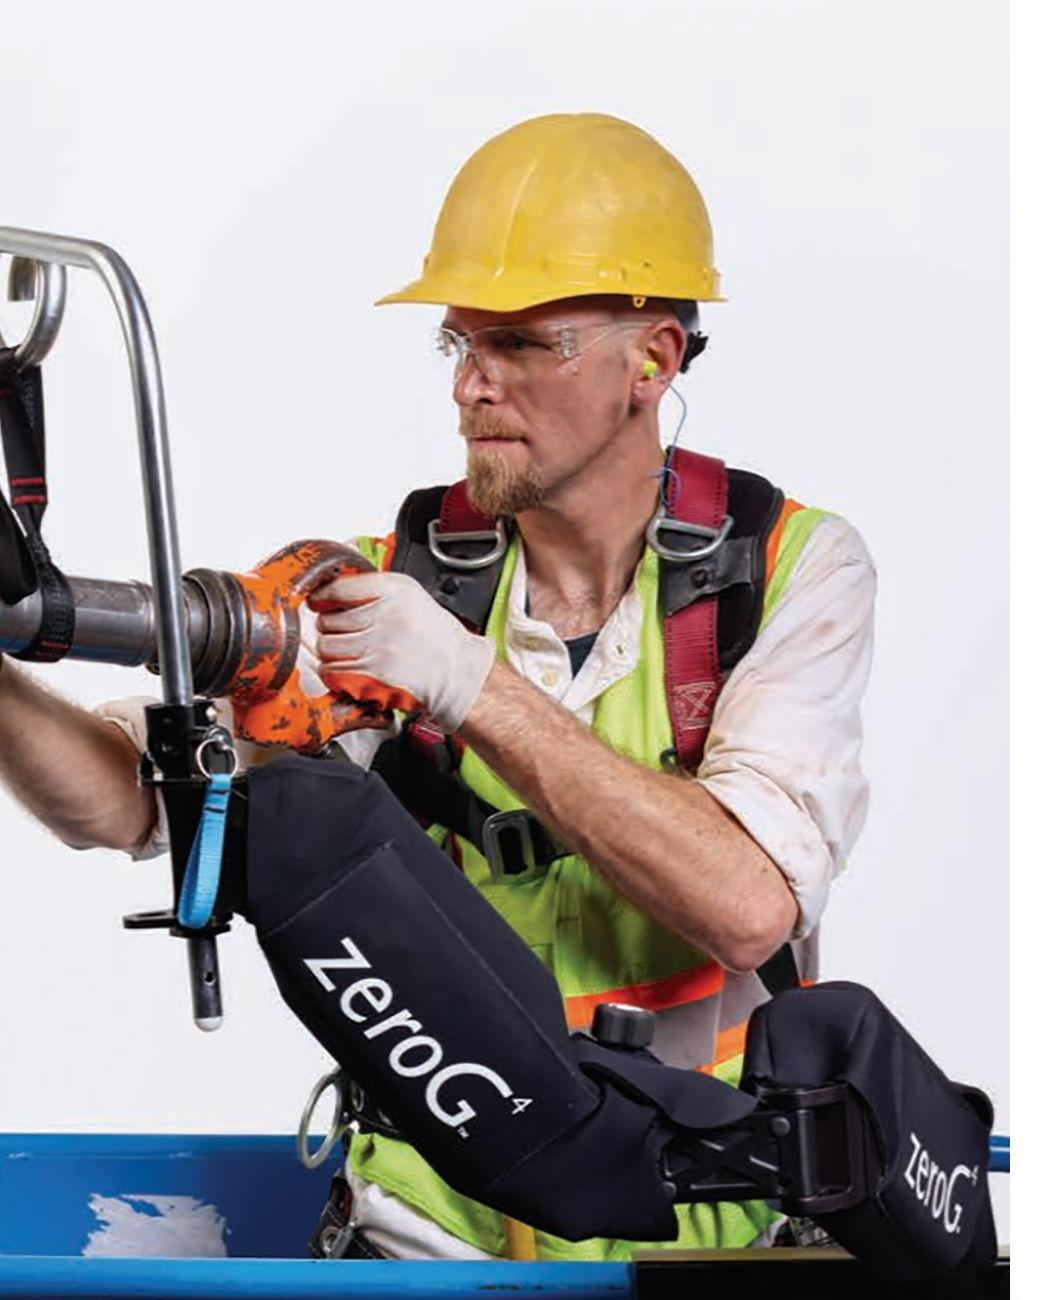helmet: (371, 117, 733, 323)
